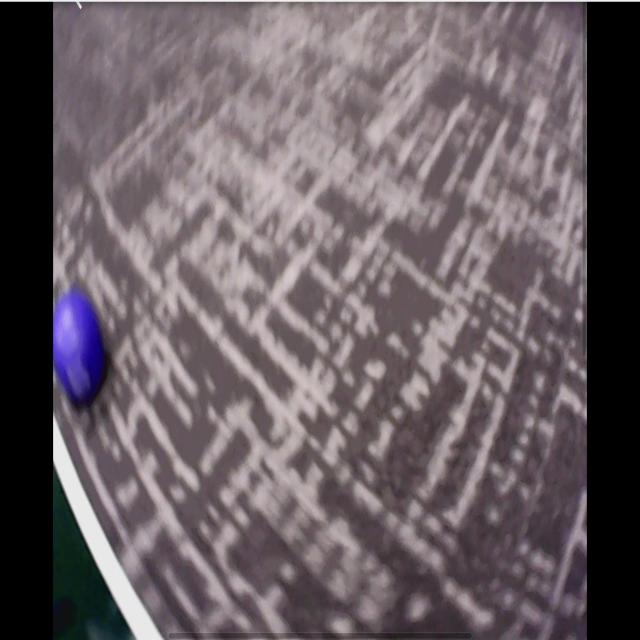ball: (54, 290, 106, 400)
